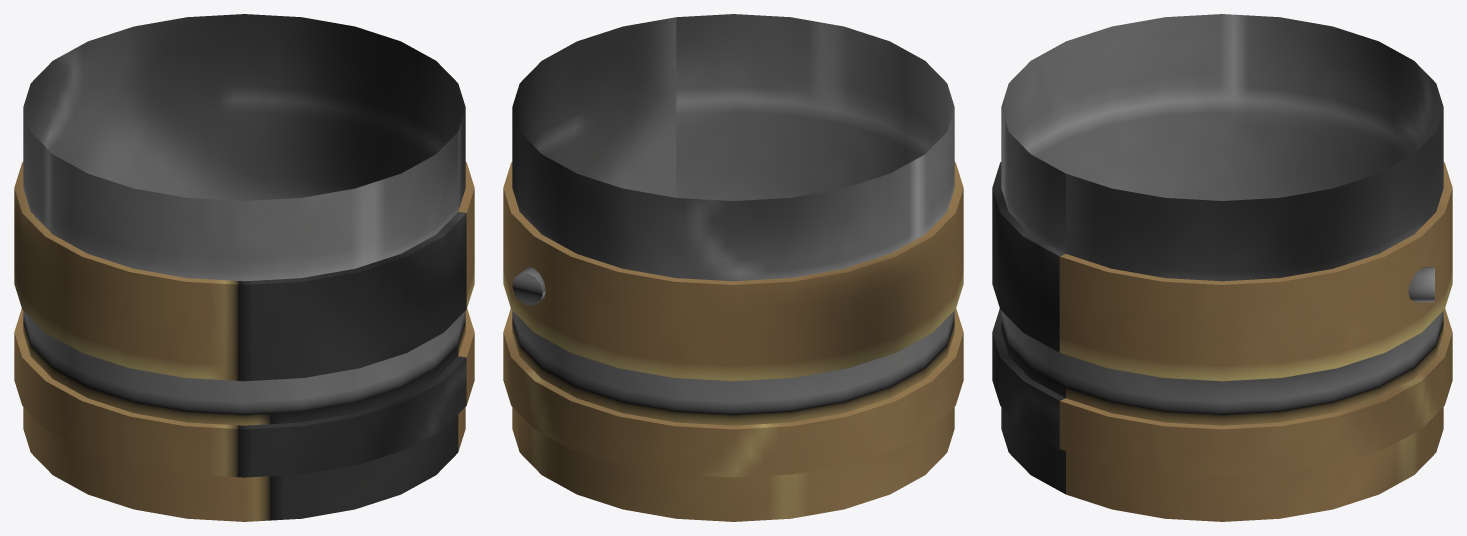
Rendered from 4mv_control_s0_1.obj.
3 renders of one model, left to right at view 1: azimuth 30°, elevation 25°; view 2: azimuth 150°, elevation 25°; view 3: azimuth 270°, elevation 25°, orthographic.
Parts seen in each view (by area): view 1: mesh1; view 2: mesh1; view 3: mesh1.
Part boxes in pixels (<box>): mesh1: <box>14,14,474,521</box>; mesh1: <box>503,14,963,521</box>; mesh1: <box>992,14,1452,521</box>.
Bounding box in the file's own units: 0.65 × 0.5 × 0.65.
